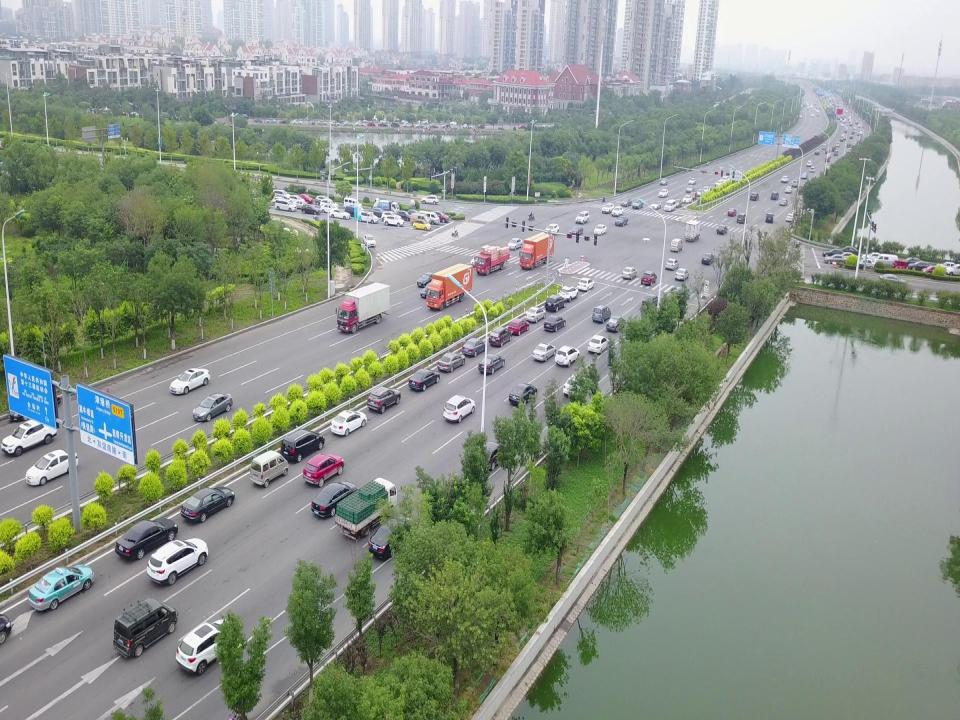car: (176, 618, 246, 676), (27, 564, 95, 612), (146, 538, 208, 586), (115, 516, 178, 560), (368, 515, 418, 559), (1, 418, 57, 456), (25, 449, 79, 486), (180, 486, 234, 523), (311, 480, 359, 518), (7, 391, 61, 421), (279, 428, 325, 463), (471, 440, 512, 471), (193, 392, 233, 422), (169, 368, 211, 396), (330, 410, 367, 437), (442, 394, 476, 423), (367, 386, 401, 414), (408, 368, 440, 392), (508, 382, 538, 405), (563, 375, 591, 398), (436, 352, 466, 373), (554, 345, 580, 368), (478, 353, 505, 375), (461, 338, 487, 357), (488, 326, 512, 346), (587, 334, 610, 354), (532, 343, 556, 362), (508, 318, 530, 337), (543, 314, 566, 332), (878, 273, 907, 287), (545, 294, 567, 312), (524, 306, 546, 323), (420, 282, 442, 299), (906, 260, 934, 273), (416, 272, 438, 288), (559, 285, 579, 302), (606, 316, 626, 333), (823, 254, 848, 267), (357, 210, 379, 224), (275, 199, 297, 212), (383, 214, 405, 227), (271, 188, 293, 201), (577, 277, 595, 292), (380, 210, 402, 222), (822, 248, 846, 259), (902, 257, 926, 268), (920, 264, 944, 275), (936, 261, 960, 272), (429, 210, 449, 223), (838, 245, 861, 256), (328, 208, 350, 219), (640, 271, 656, 286), (865, 251, 885, 263), (674, 268, 690, 282), (319, 198, 339, 209), (302, 203, 320, 215), (413, 219, 431, 231), (858, 258, 876, 270), (575, 210, 590, 224), (345, 204, 361, 217), (314, 195, 334, 205), (270, 196, 288, 207), (368, 207, 386, 218), (856, 253, 874, 264), (363, 234, 377, 248), (508, 237, 522, 251), (544, 223, 559, 236), (621, 267, 637, 279), (296, 194, 314, 204), (945, 264, 960, 276), (292, 199, 308, 210), (319, 203, 335, 214), (395, 210, 411, 221), (568, 225, 584, 236), (615, 215, 629, 227), (701, 253, 715, 265), (421, 195, 439, 204), (593, 224, 607, 235), (665, 259, 679, 270), (405, 209, 421, 218), (289, 195, 305, 204), (602, 203, 614, 214), (612, 206, 624, 217), (736, 213, 748, 224), (632, 199, 644, 209), (764, 212, 774, 223), (620, 198, 632, 207), (650, 201, 662, 210), (672, 198, 682, 208), (683, 195, 693, 204), (727, 208, 737, 217), (770, 190, 779, 200), (786, 213, 796, 222), (749, 193, 760, 201), (658, 189, 668, 197), (659, 178, 669, 186), (687, 177, 697, 185), (690, 191, 698, 201), (720, 176, 730, 184), (702, 186, 710, 195), (709, 182, 717, 191), (715, 180, 723, 189), (779, 198, 788, 206), (239, 114, 249, 121), (330, 120, 340, 127), (343, 120, 353, 127), (380, 118, 390, 125), (686, 186, 694, 194), (697, 188, 705, 196), (781, 174, 789, 182), (403, 121, 412, 128), (266, 118, 276, 124), (292, 120, 302, 126), (317, 120, 327, 126), (360, 118, 370, 124), (391, 122, 401, 128), (463, 124, 473, 130), (477, 123, 485, 130), (518, 123, 526, 130), (791, 180, 799, 187), (785, 186, 793, 193), (279, 119, 290, 124), (356, 121, 366, 126), (378, 123, 388, 128), (415, 123, 425, 128), (450, 121, 460, 126), (801, 172, 808, 179), (254, 117, 262, 123), (368, 122, 376, 128), (442, 124, 450, 130), (809, 166, 815, 173), (831, 146, 837, 153), (806, 160, 812, 167), (825, 156, 831, 162), (824, 148, 830, 154), (826, 152, 831, 159), (430, 124, 438, 128), (814, 150, 820, 155), (835, 142, 840, 147)
truck: (335, 282, 390, 334), (426, 263, 473, 311), (519, 231, 555, 271), (474, 252, 510, 276), (889, 259, 921, 275), (373, 197, 401, 213), (684, 219, 702, 242)
van: (334, 478, 402, 542), (112, 597, 178, 658), (250, 449, 289, 488), (873, 254, 898, 269), (591, 306, 611, 324), (418, 210, 440, 225), (343, 197, 363, 210), (669, 238, 683, 253), (663, 199, 676, 211), (716, 226, 728, 235), (418, 118, 428, 125), (821, 144, 827, 151), (834, 150, 838, 156), (846, 143, 850, 148)
